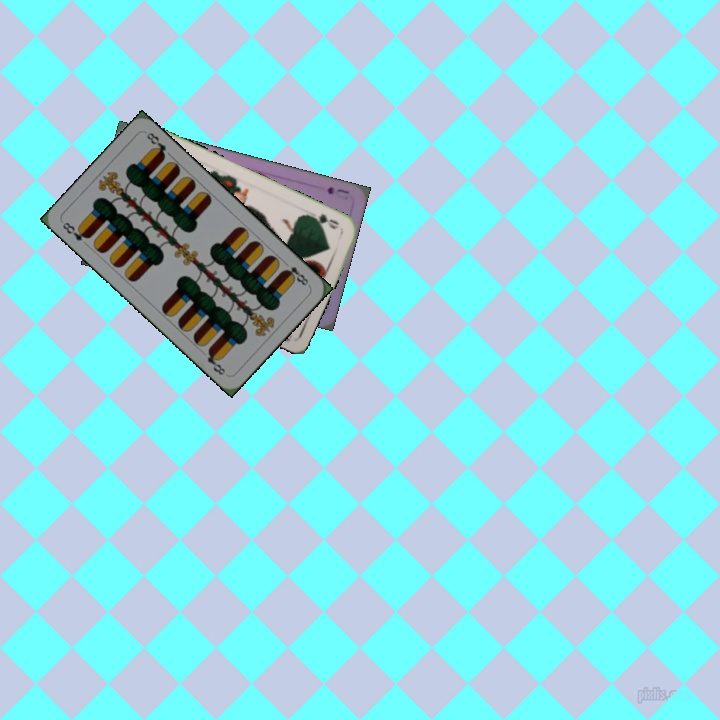E8: (279, 257, 312, 289), (58, 218, 93, 244)
GO: (305, 210, 342, 232)
SU: (323, 183, 352, 200)
